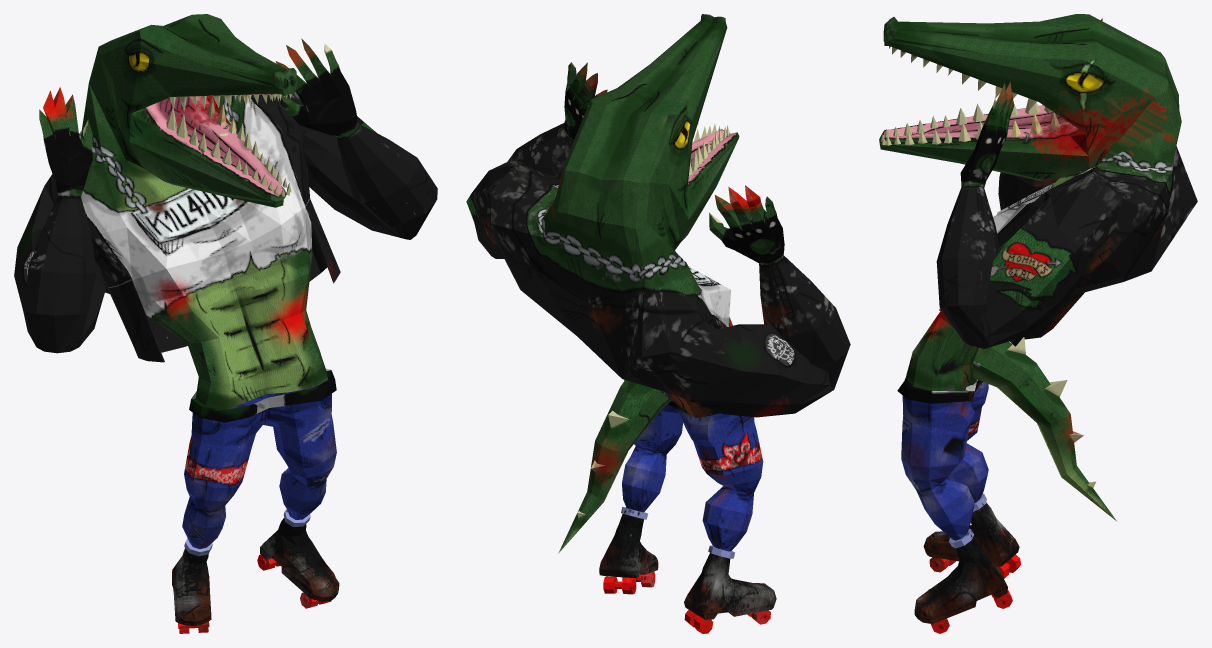
File: cocodrilaBonesSelect_000010.obj
3 views of the same model, side by side, from view 1: azimuth 30°, elevation 25°; view 2: azimuth 150°, elevation 25°; view 3: azimuth 270°, elevation 25° (orthographic). The views are drawn at different scales.
Parts seen in each view (by area): view 1: Crocodile.002_Cylinder.002; view 2: Crocodile.002_Cylinder.002; view 3: Crocodile.002_Cylinder.002.
Boxes of the visible parts, x1=… form: Crocodile.002_Cylinder.002: x1=14, y1=14, x2=437, y2=633; Crocodile.002_Cylinder.002: x1=466, y1=14, x2=850, y2=633; Crocodile.002_Cylinder.002: x1=879, y1=14, x2=1197, y2=633.
Bounding box in the file's own units: 4.65 × 6.59 × 3.28.
